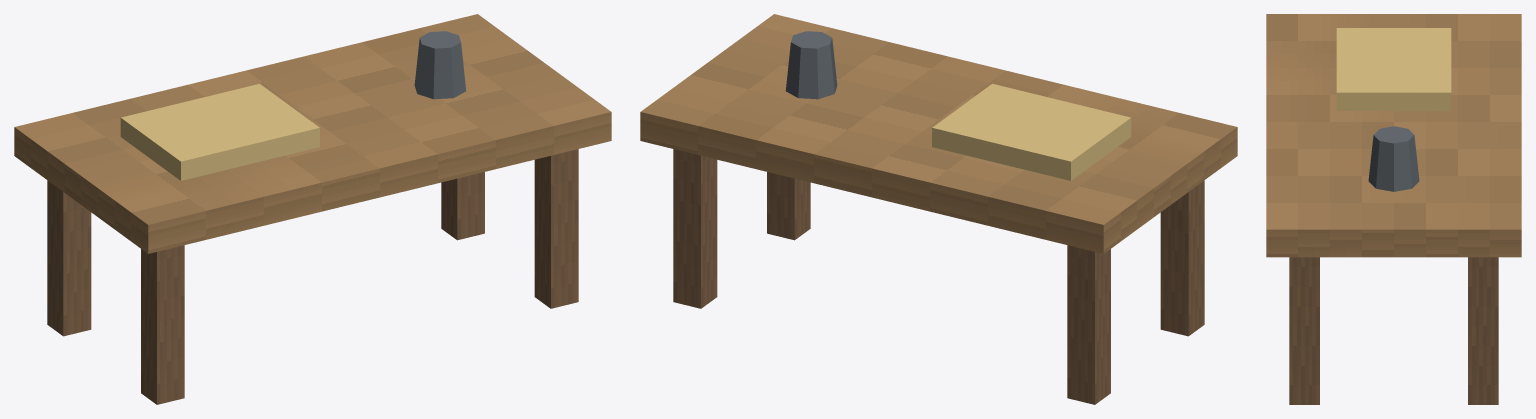
File: dungeon-room-builder-study-table-c4c5910b__25857.glb
3 renders of one model, left to right at view 1: azimuth 30°, elevation 25°; view 2: azimuth 150°, elevation 25°; view 3: azimuth 270°, elevation 25°, orthographic. The views are drawn at different scales.
Parts seen in each view (by area): view 1: study-table; view 2: study-table; view 3: study-table.
Part boxes in pixels (left/top/right/bottom): study-table: left=14, top=14, right=611, bottom=404; study-table: left=640, top=14, right=1237, bottom=404; study-table: left=1266, top=14, right=1521, bottom=404.
Size of the model in its own units: 2 by 1 by 1.
Materials: 4 (2 with a texture image).
